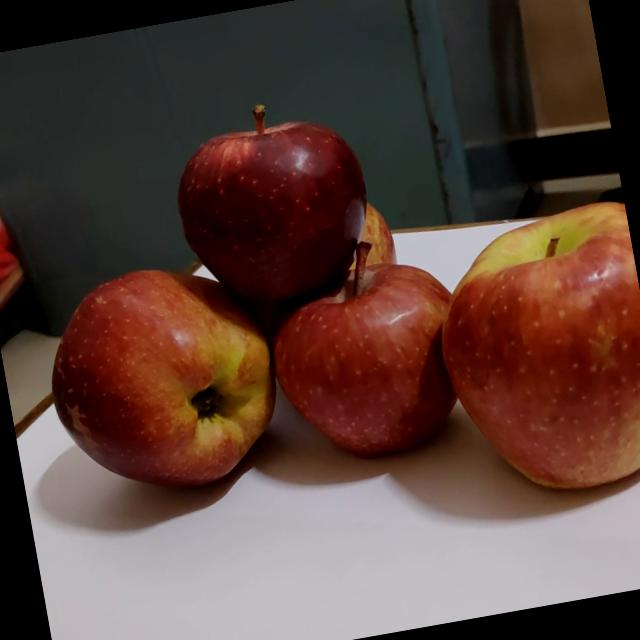apple: (38, 236, 312, 504), (436, 188, 640, 504), (163, 73, 399, 317), (267, 215, 490, 466), (334, 182, 406, 270)
